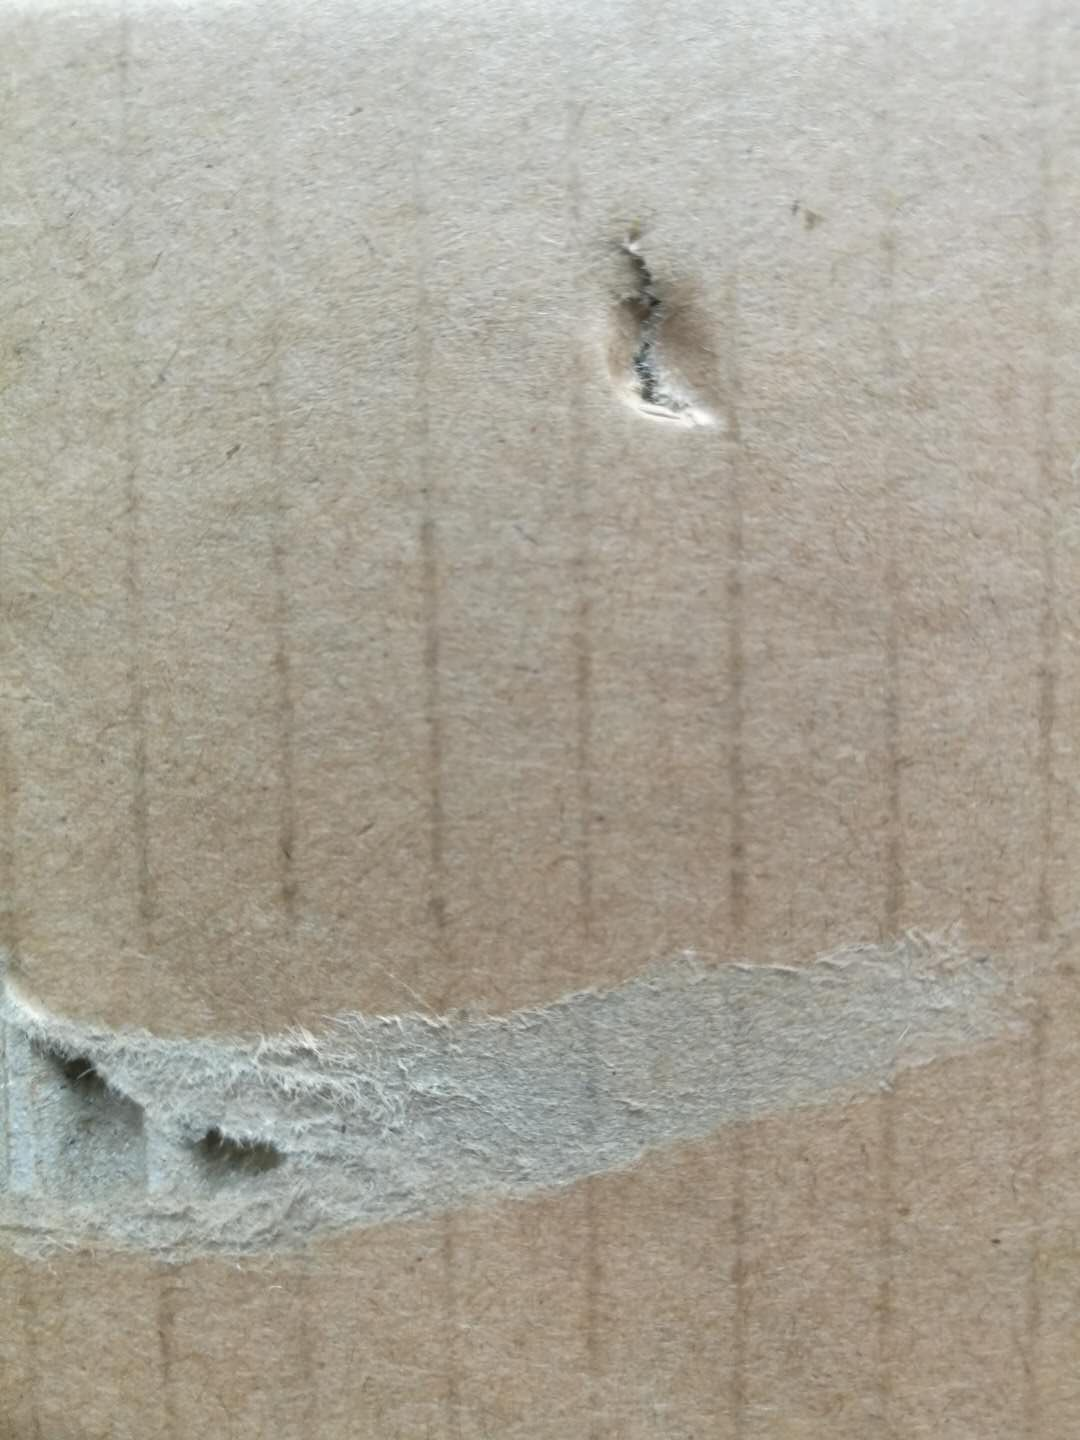defect: (3, 878, 1080, 1297), (548, 190, 845, 465)
